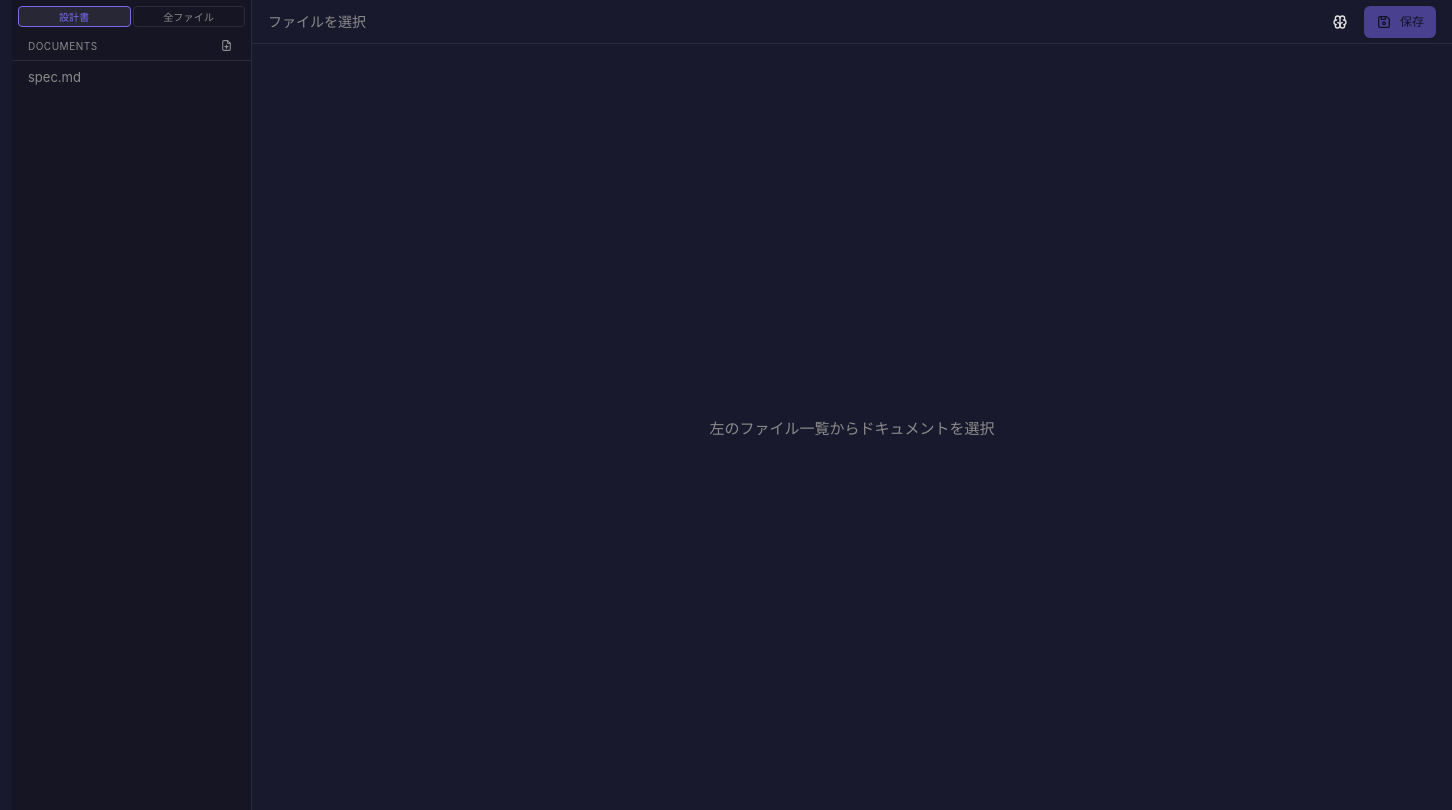
EditorScreen — ファイルツリー操作 › リネームボタンクリックでリネーム入力が表示される (line 433)
The width and height of the screenshot is (1452, 810).
# ドキュメントをクリックして選択状態にする
Click the button "spec.md": (119, 77) [14,61,224,93]
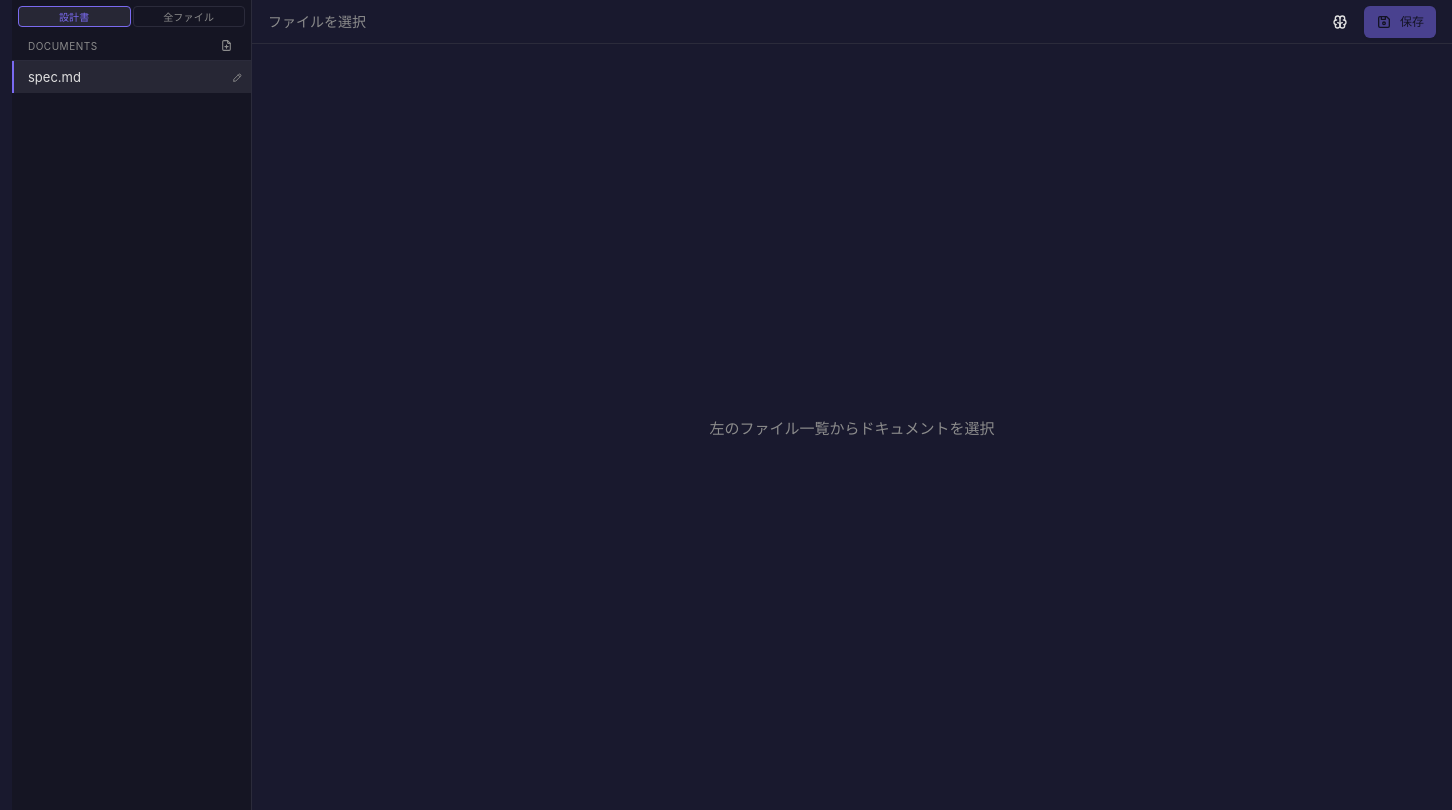
Click the button titled "リネーム": (238, 77) [224,67,251,87]
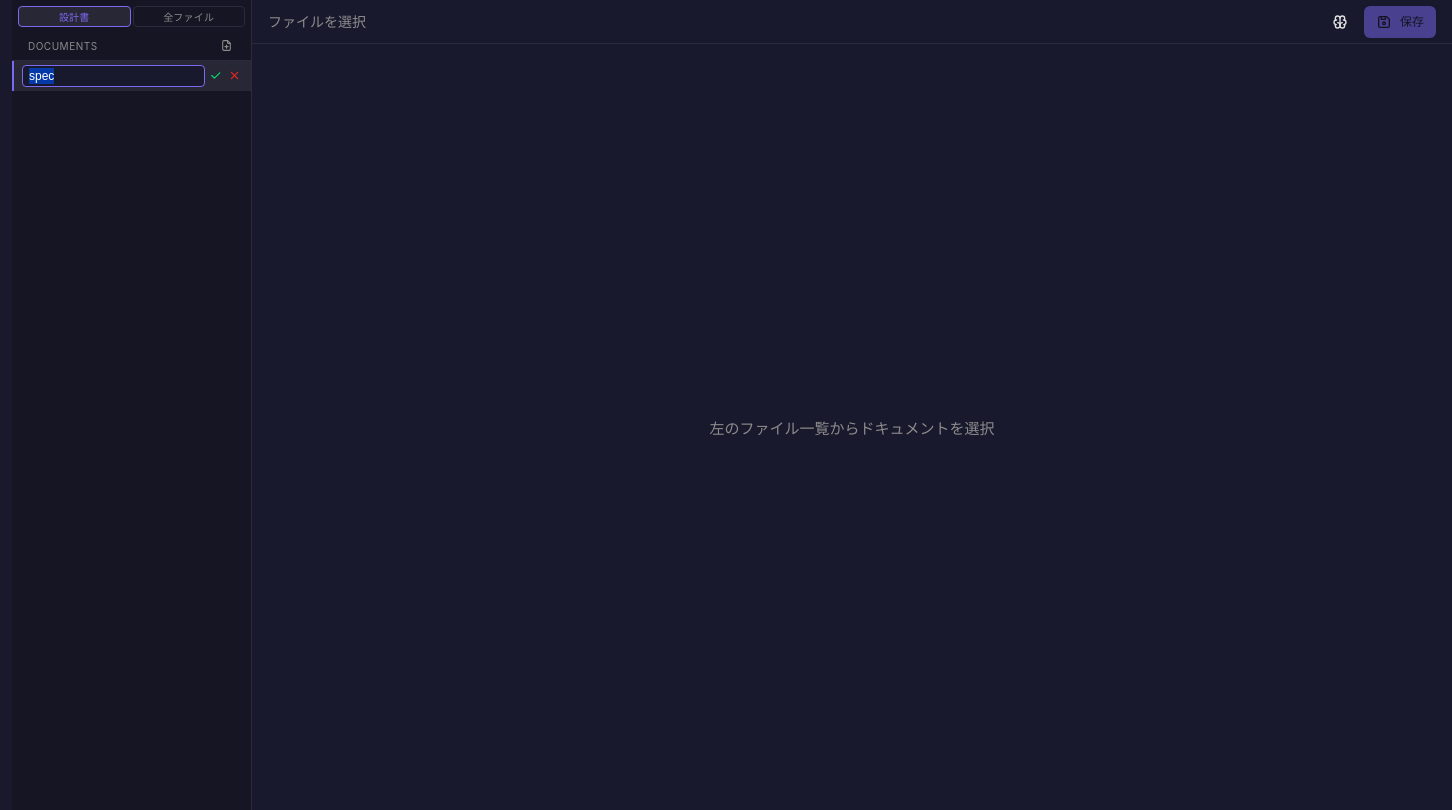
expect the field showing "spec" is shown: met, box [22,65,205,87]
